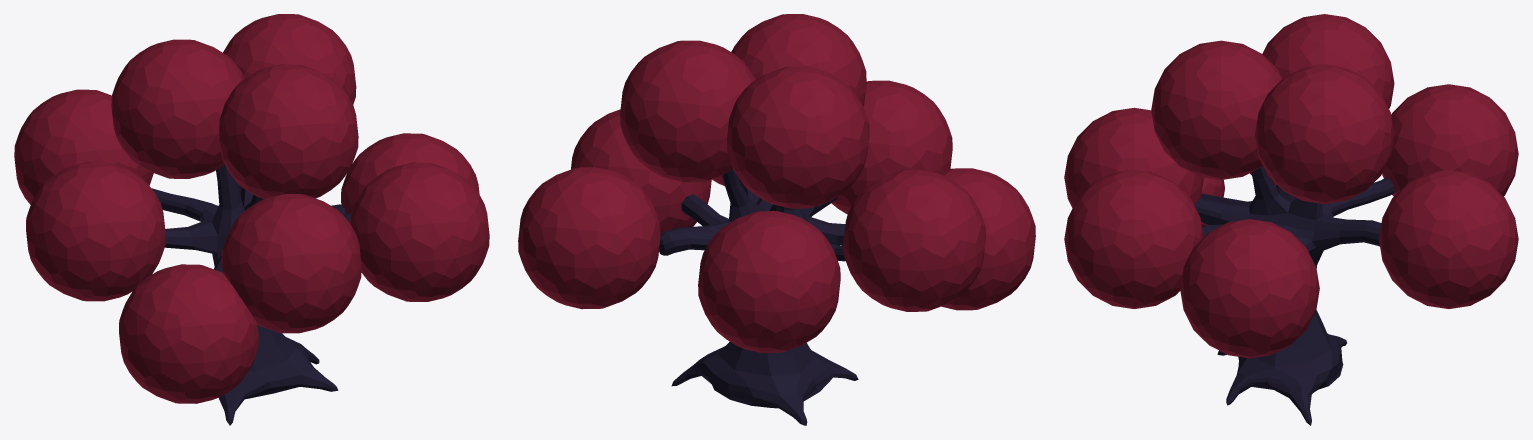
File: arvorevermelha-ultima.fbx
3 views of the same model, side by side, from view 1: azimuth 30°, elevation 25°; view 2: azimuth 150°, elevation 25°; view 3: azimuth 270°, elevation 25° (orthographic). The views are drawn at different scales.
Parts seen in each view (by area): view 1: Cube; view 2: Cube; view 3: Cube.
Part boxes in pixels (x1,y1,x2,y2): Cube: (14, 14, 489, 425); Cube: (518, 14, 1035, 425); Cube: (1064, 14, 1518, 425).
Size of the model in its own units: 483 by 385 by 463.
